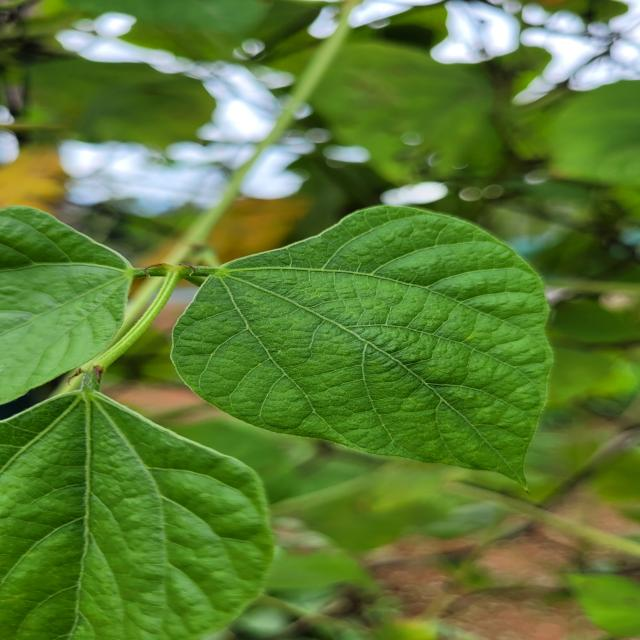Dolicos bean_healthy: (172, 205, 556, 494), (0, 392, 274, 639), (0, 205, 133, 406)
